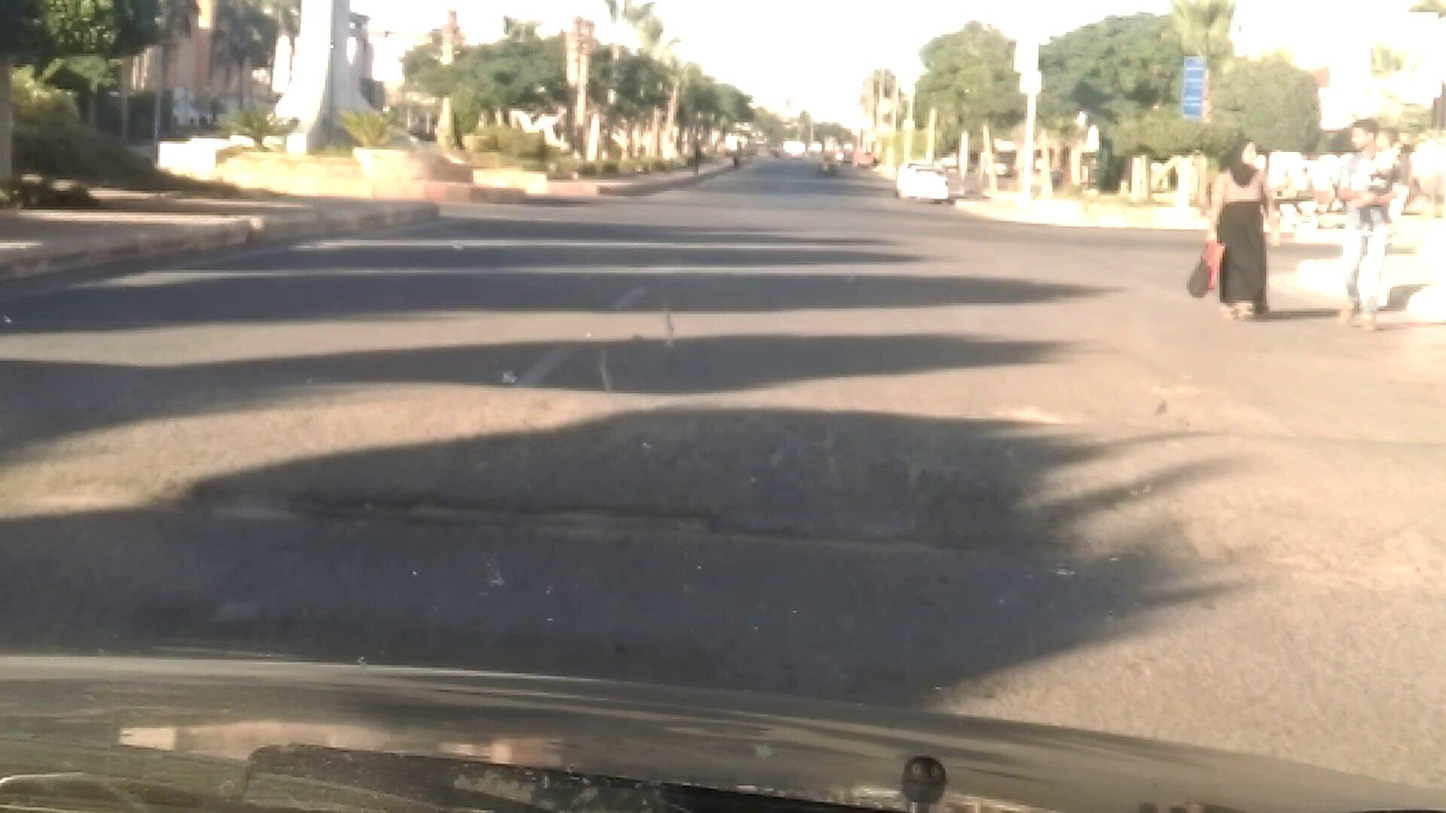Bump: (0, 364, 1445, 567)
